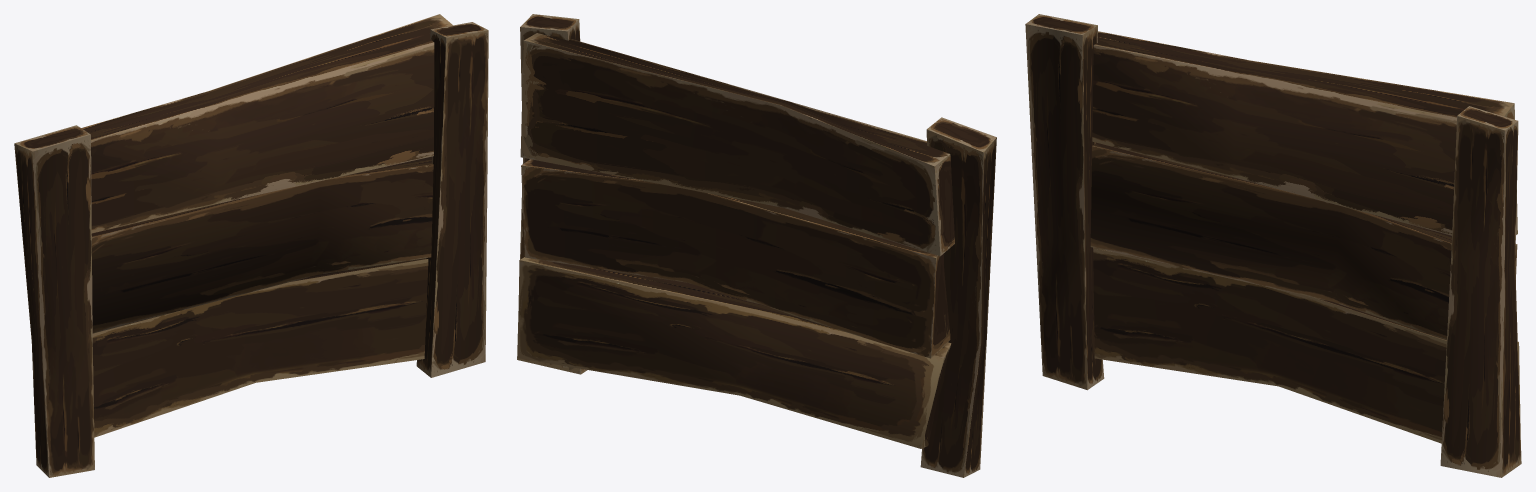
Rendered from SM_PROP_board_02.fbx.
3 renders of one model, left to right at view 1: azimuth 30°, elevation 25°; view 2: azimuth 150°, elevation 25°; view 3: azimuth 330°, elevation 25°, orthographic. The views are drawn at different scales.
Visible parts, largest first — view 1: SM_PROP_board_02; view 2: SM_PROP_board_02; view 3: SM_PROP_board_02.
Part boxes in pixels (<box>): SM_PROP_board_02: <box>14,14,488,477</box>; SM_PROP_board_02: <box>517,14,996,477</box>; SM_PROP_board_02: <box>1025,14,1521,477</box>.
Size of the model in its own units: 215 by 154 by 24.94.
